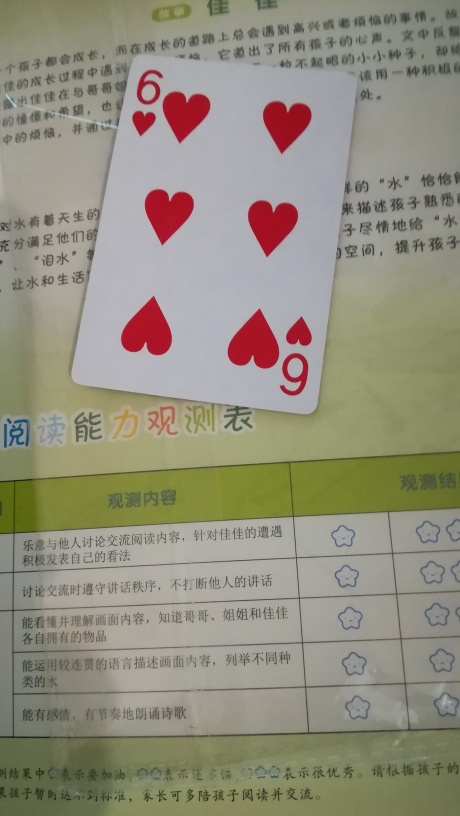hx 6: (64, 53, 366, 428)
